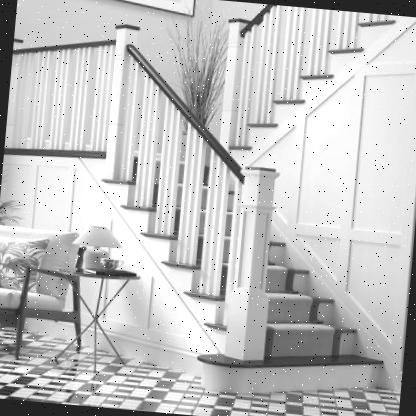stair: (114, 143, 416, 409)
